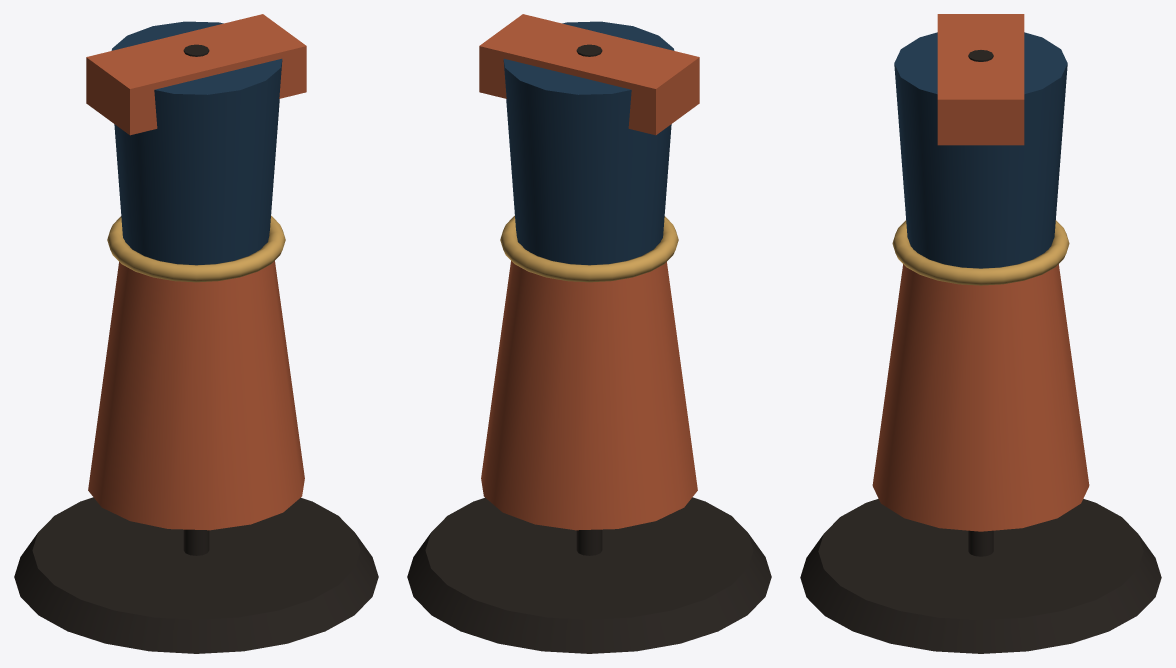
File: clothing-tenun-sumba.glb
The picture shows the model from 3 angles, left to right: view 1: azimuth 30°, elevation 25°; view 2: azimuth 150°, elevation 25°; view 3: azimuth 270°, elevation 25°; orthographic projection.
Bounding box in the file's own units: 1 × 1.59 × 1.
